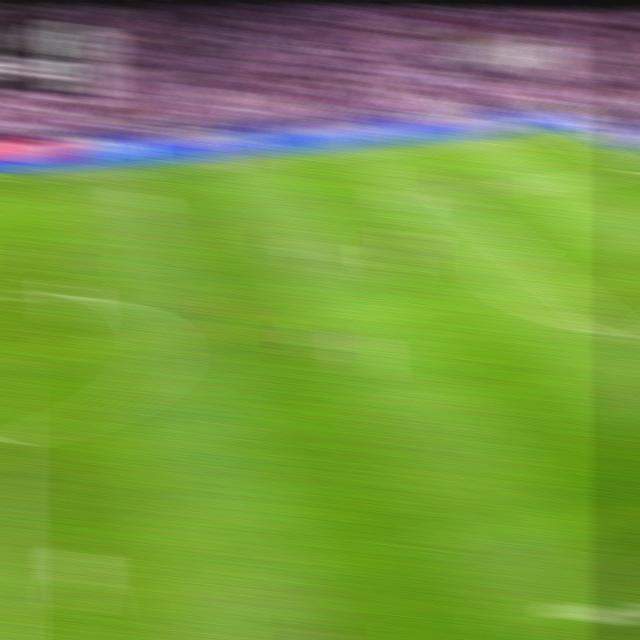bigarea_top_inner: (435, 184, 465, 202)
bottom_arc_area_intersection: (606, 323, 640, 345)
corner: (539, 125, 572, 138)
halfcircle_bottom: (0, 422, 17, 452)
halfcircle_top: (0, 280, 13, 309)
top_arc_area_intersection: (499, 237, 532, 256)
